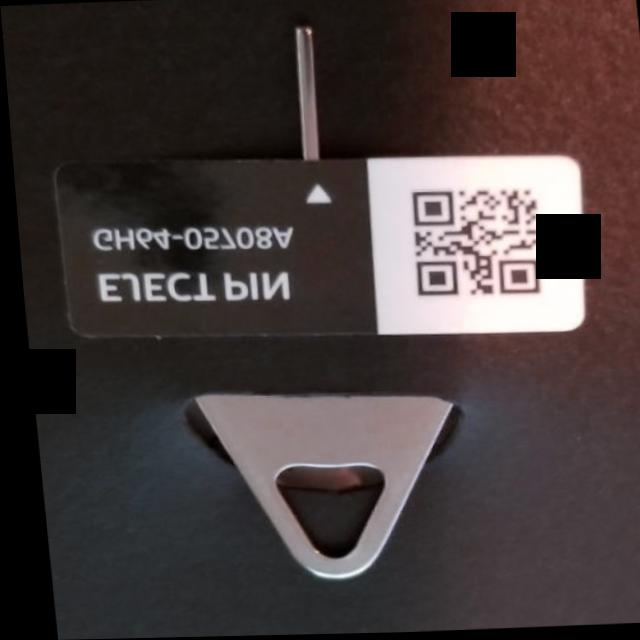QR_CODE: (383, 176, 553, 318)
